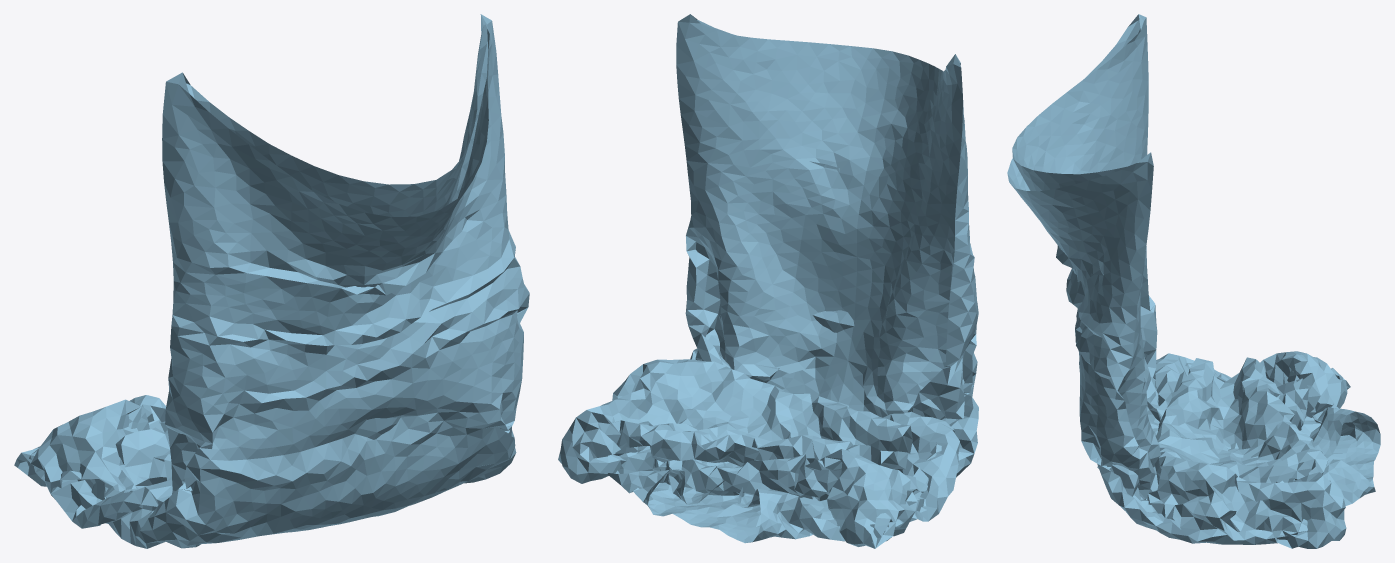
File: frame_12.glb
3 views of the same model, side by side, from view 1: azimuth 30°, elevation 25°; view 2: azimuth 150°, elevation 25°; view 3: azimuth 270°, elevation 25° (orthographic). The views are drawn at different scales.
Visible parts, largest first — view 1: frame_12.obj; view 2: frame_12.obj; view 3: frame_12.obj.
Boxes of the visible parts, x1,y1,x2,y2 form: frame_12.obj: [14, 14, 529, 548]; frame_12.obj: [558, 14, 978, 548]; frame_12.obj: [1007, 14, 1380, 548].
Bounding box in the file's own units: 0.9392 × 1.12 × 0.933.
